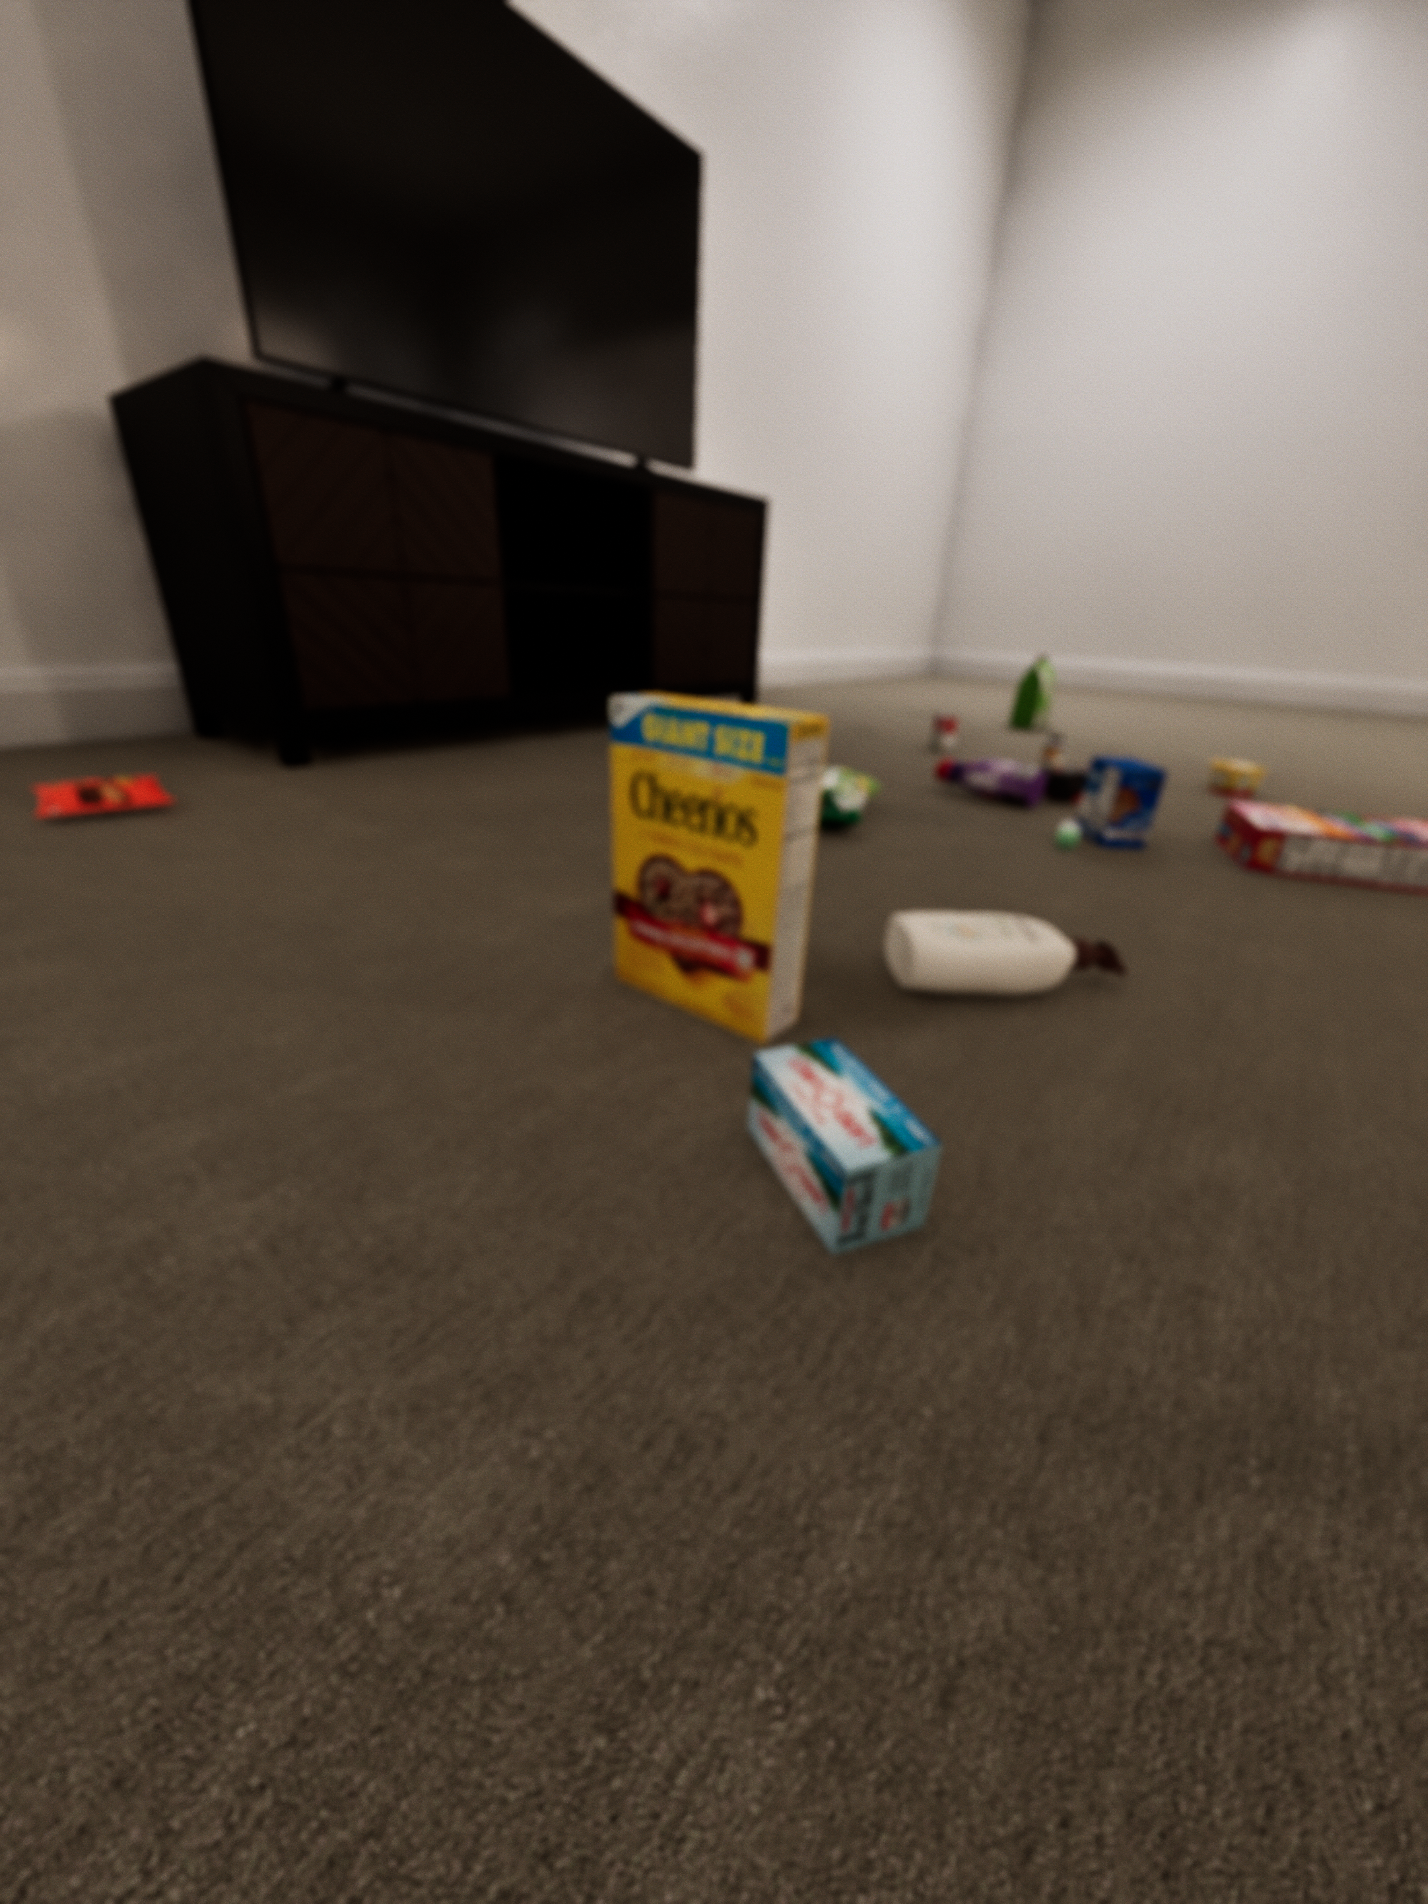cheerios: (610, 694, 829, 1043)
soup: (930, 714, 958, 751)
